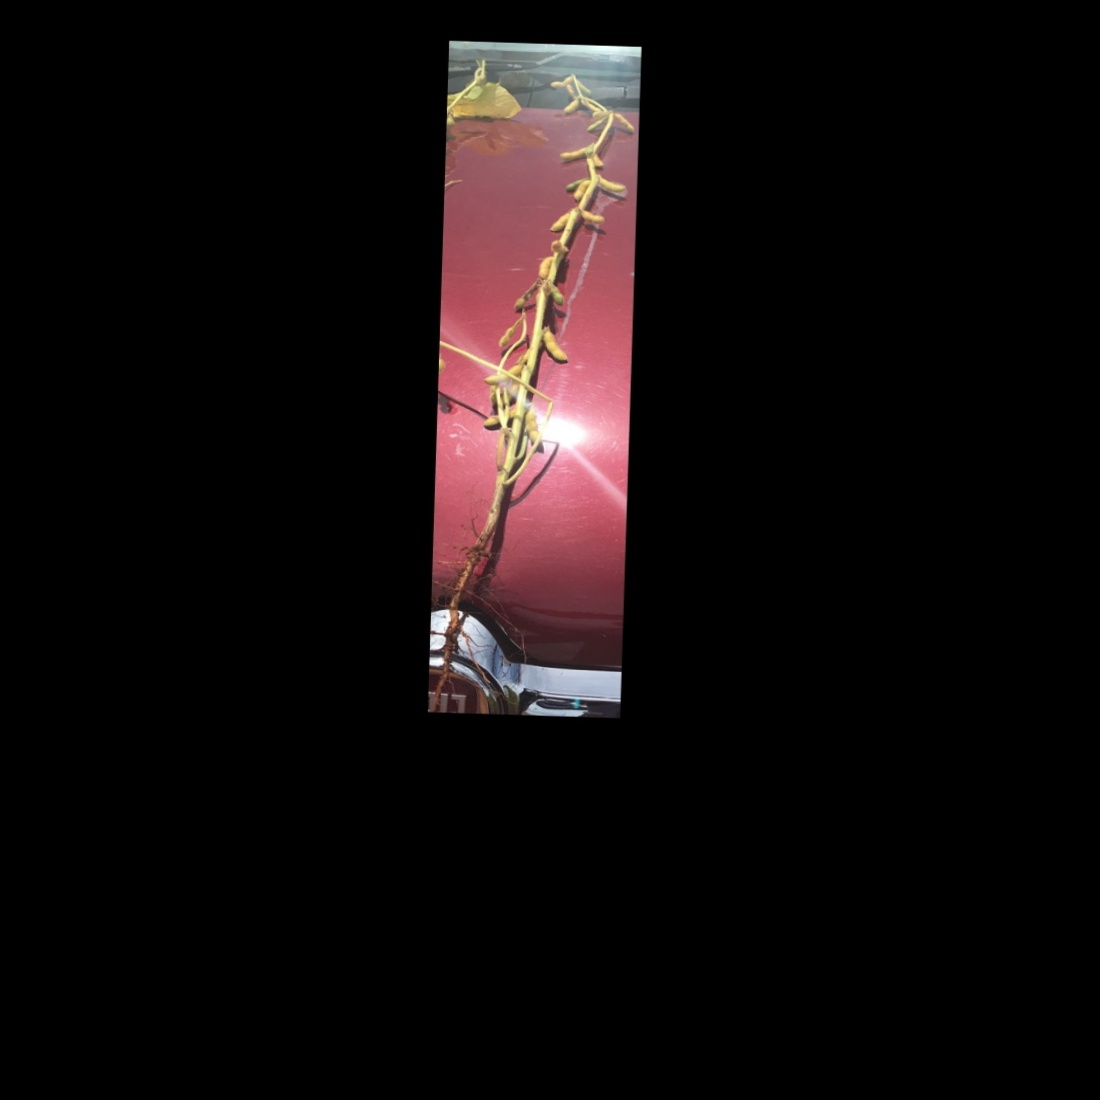pod: (540, 324, 572, 366), (482, 362, 521, 388), (493, 315, 522, 349), (523, 408, 543, 448), (612, 108, 638, 136), (545, 208, 569, 234), (597, 174, 627, 194), (579, 208, 610, 226), (556, 144, 588, 159), (546, 73, 574, 89), (583, 116, 606, 135), (561, 96, 582, 116), (549, 284, 566, 307)
soy: (430, 62, 632, 661)
